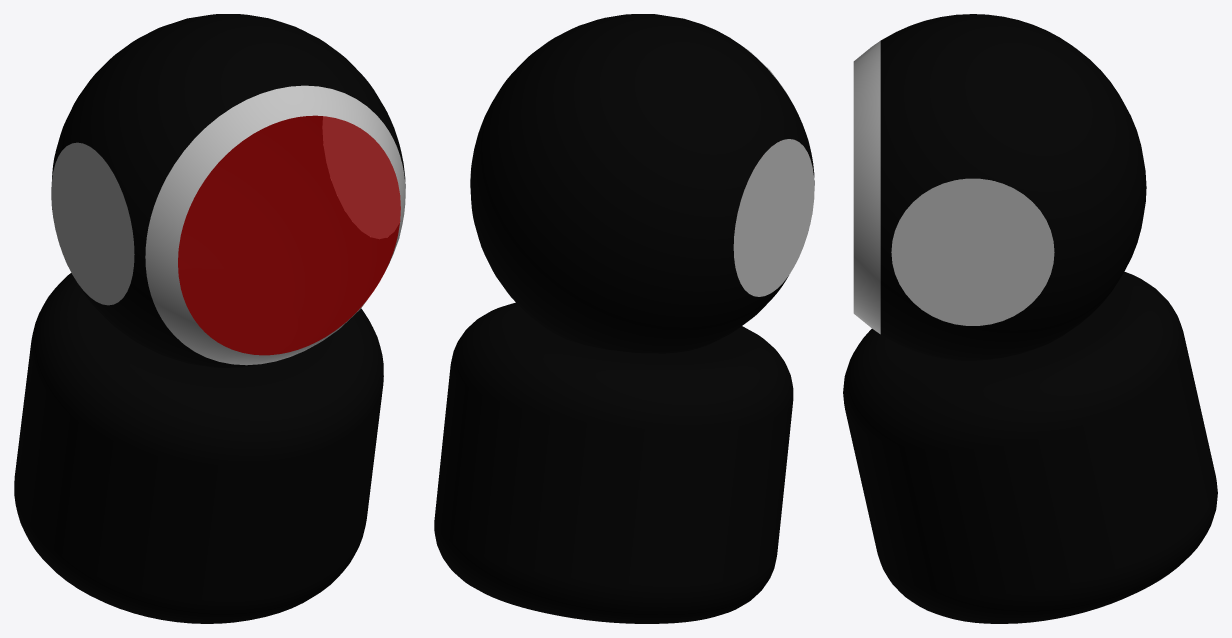
The model's file is cyclops scanner.fbx.
3 renders of one model, left to right at view 1: azimuth 30°, elevation 25°; view 2: azimuth 150°, elevation 25°; view 3: azimuth 270°, elevation 25°, orthographic. The views are drawn at different scales.
Parts seen in each view (by area): view 1: Scanner; view 2: Scanner; view 3: Scanner.
Boxes of the visible parts, bbox=[...] form: Scanner: bbox=[14, 14, 405, 623]; Scanner: bbox=[434, 14, 814, 623]; Scanner: bbox=[843, 14, 1217, 623].
Bounding box in the file's own units: 3.2 × 3.46 × 5.65.
